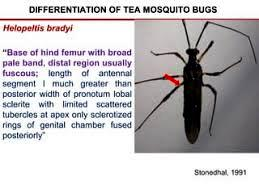Helopeltis-insect: (180, 45, 206, 144)
